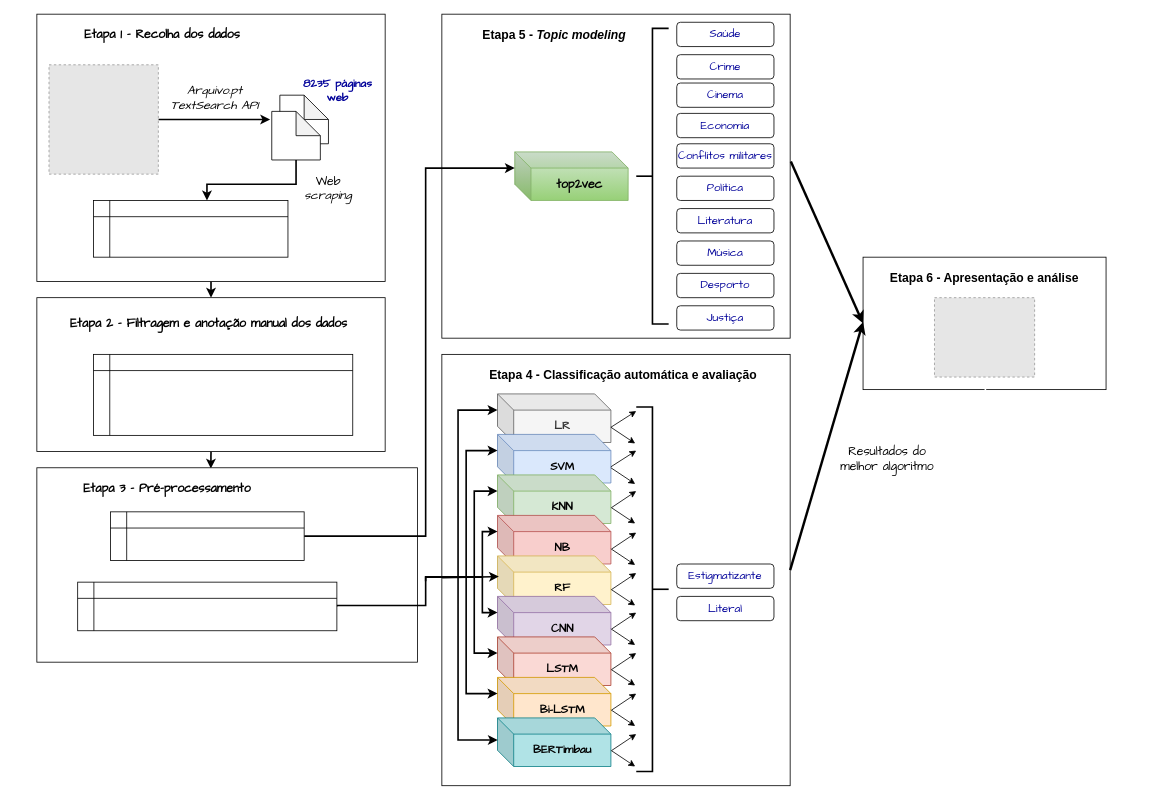
Some shapes in this 1152 by 800 pixel diagram are drawn without their labels. Grey dashed boxes stand in for pictures. Each missing label, with the box of its shape:
1111 dados/artigos estruturados: (93, 200, 288, 257)
978 dados relevantes anotados por pelo menos dois anotadores humanos diferentes: (93, 354, 353, 435)
Dados anotados pré-processados: (77, 581, 337, 631)
Dados limpos: (110, 511, 304, 560)
